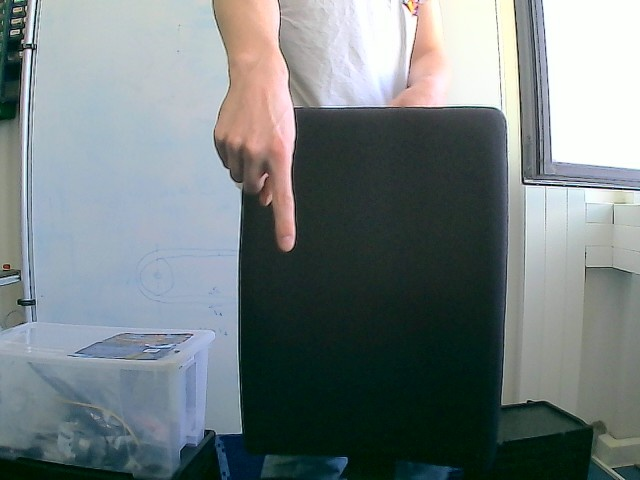down: (212, 78, 299, 254)
